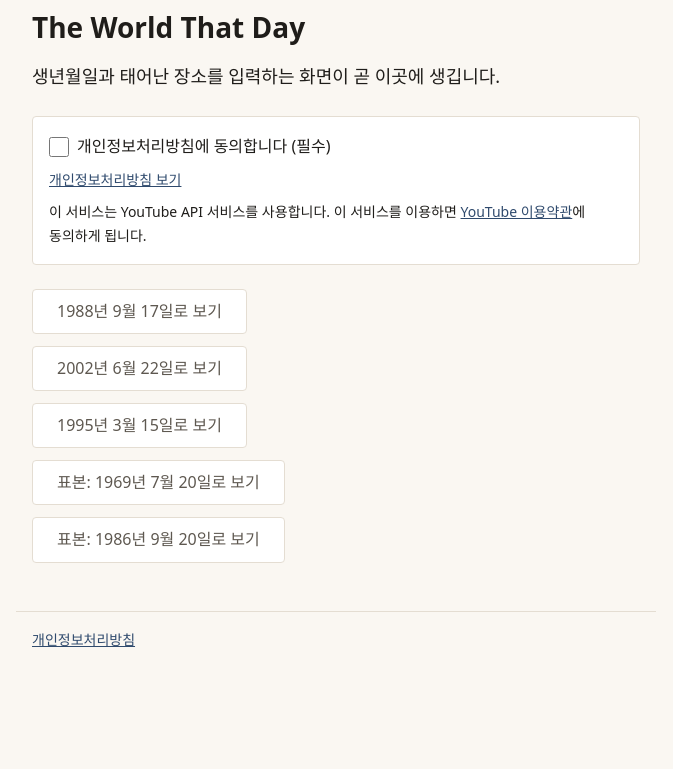
Test: App › shows the empty-day notice for 1995-03-15
This screenshot has width=673, height=769.
What coordinates should you click on to do the following:
click the checkbox labelled "개인정보처리방침에 동의합니다 (필수)"
I would click on:
 (59, 147)
Its box is top-left (49, 137), bottom-right (69, 157).
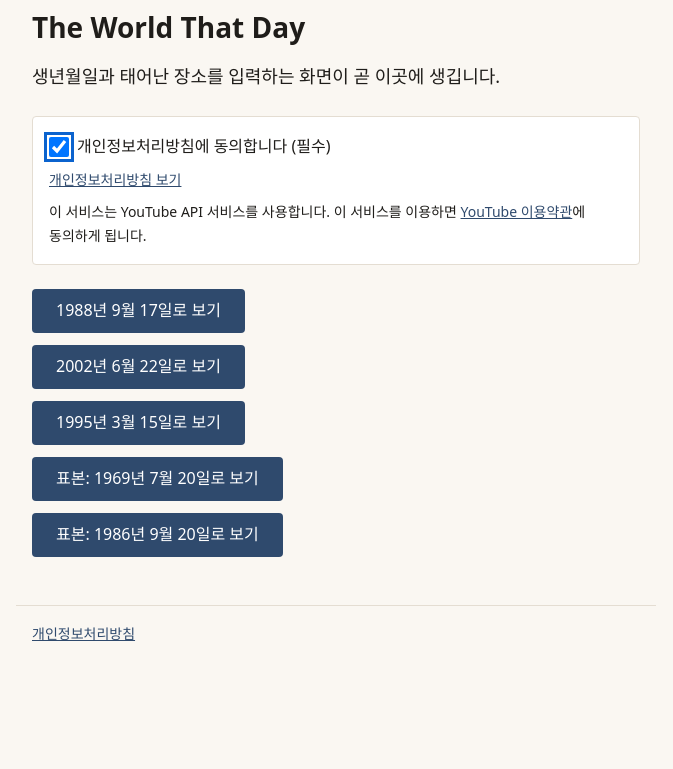
What coordinates should you click on to do the following:
click the button "1995년 3월 15일로 보기"
I would click on:
 (138, 423)
Its box is top-left (32, 401), bottom-right (245, 445).
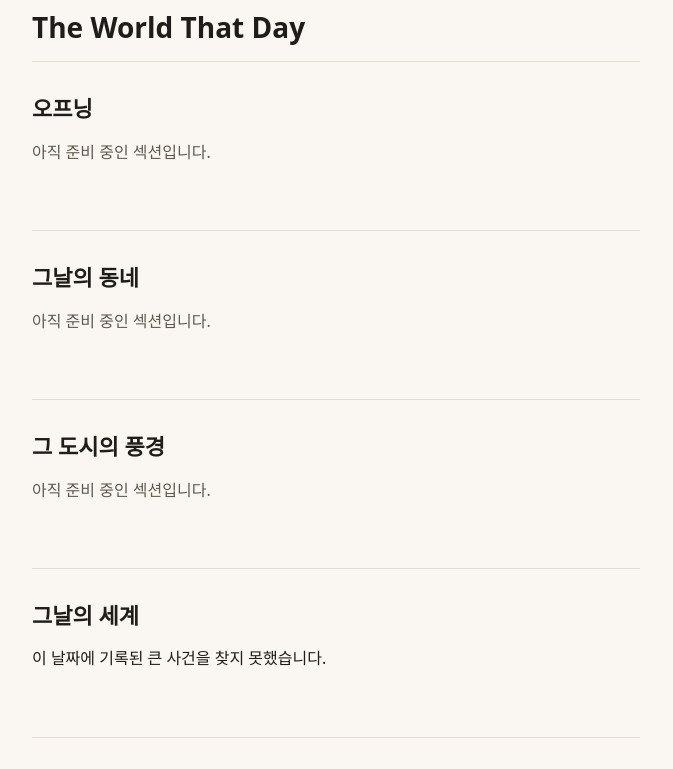
Expected: the text "이 날짜에 기록된 큰 사건을 찾지 못했습니다." is shown, top-left (32, 647), bottom-right (326, 669)
